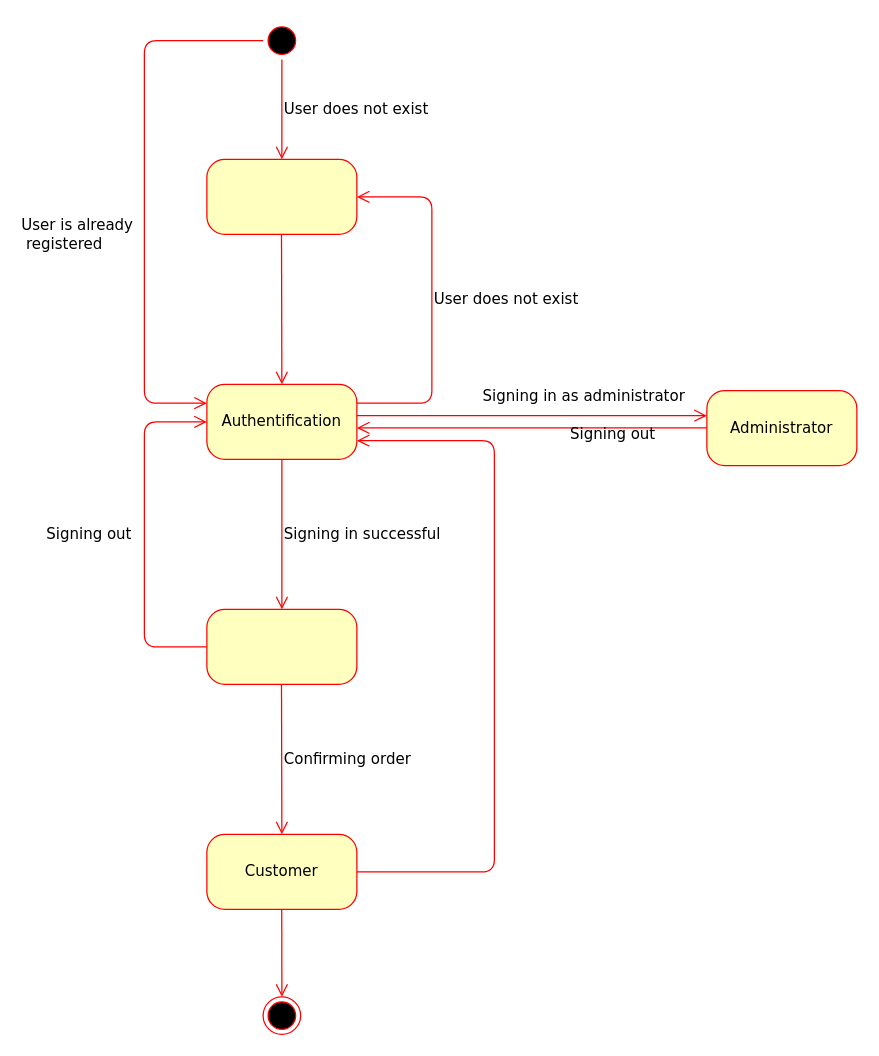
Some shapes in this 879 by 1056 pixel diagram are drawn without their labels. Here are the shapes that lost their labels. From the top down, the centre of each, then its label:
the point at 281,196: Registration
the point at 281,646: Signed in user
